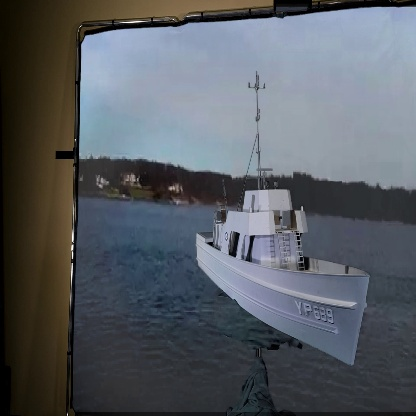YP689: (196, 75, 370, 367)
